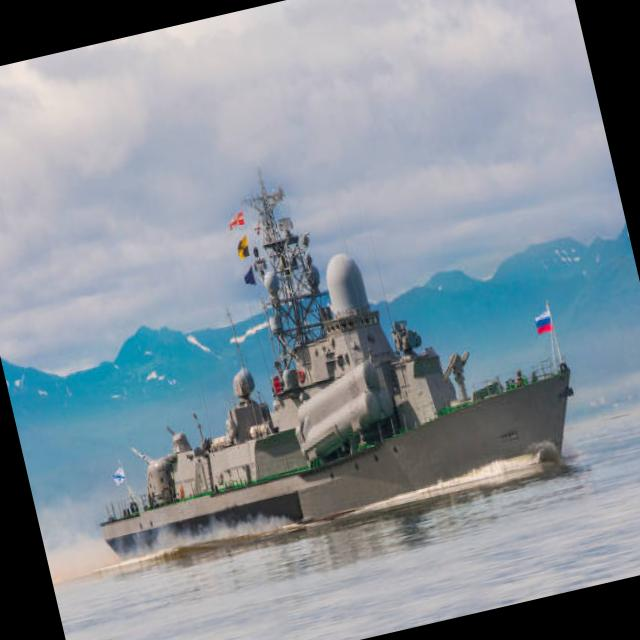Military: (103, 191, 572, 563)
